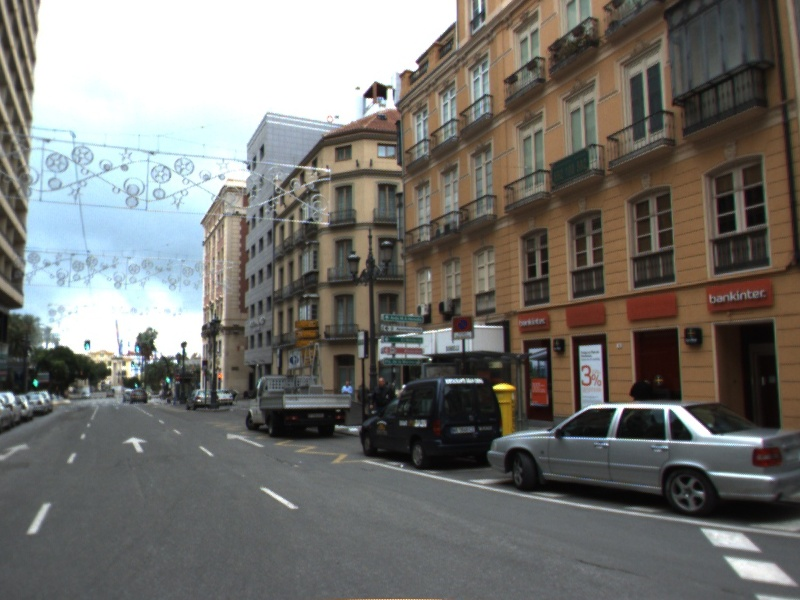STRAIGHT: (224, 430, 268, 449), (120, 435, 150, 455)
